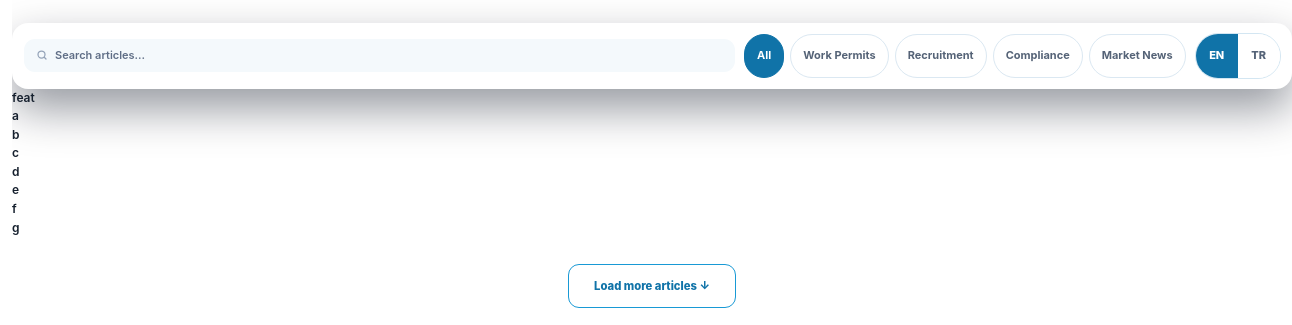
Scenario: the index islands (S1.3, S3.2, M3, M4 — IndexState, BlogTools, LoadMore, ResultLine) › shows eight (two rows of four, W250), then the rest on "Load more"; the button goes when nothing waits
Click the button "Load more articles ↓" at (652, 286), box x1=568 y1=264 x2=736 y2=308
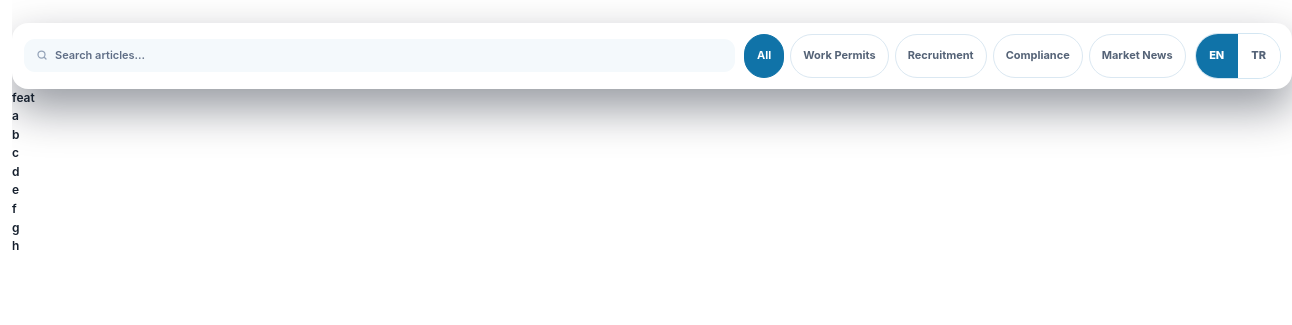
Expected: the button with test id "blog-load-more" is gone
